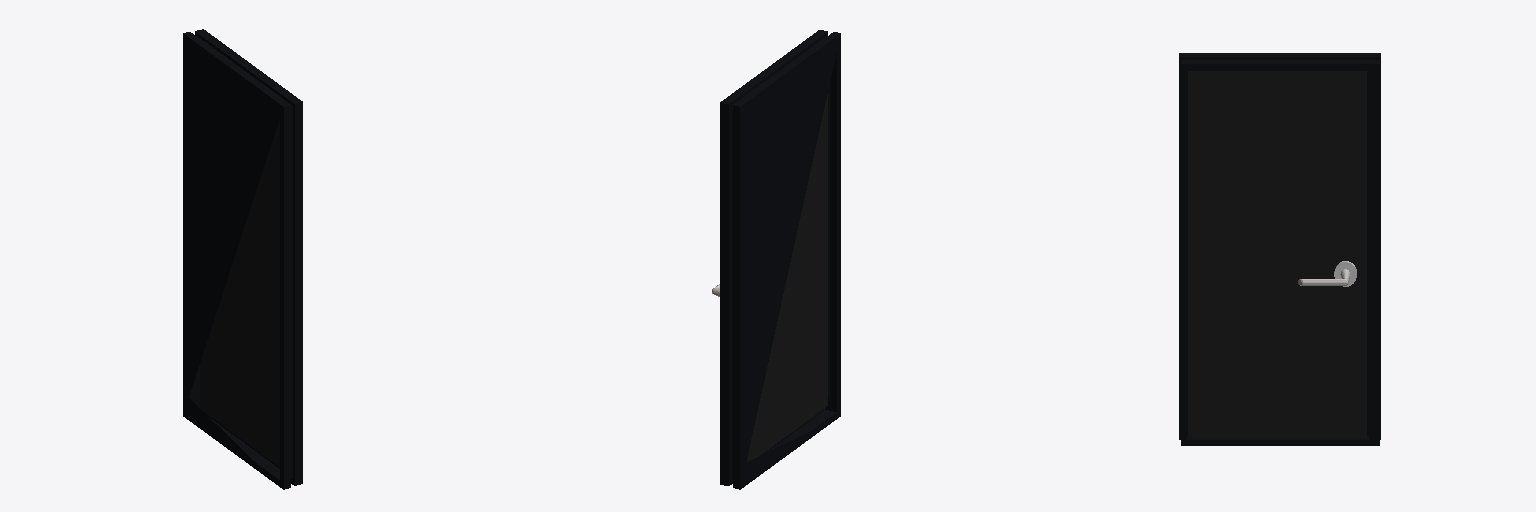
File: hospitaldoor.obj
3 views of the same model, side by side, from view 1: azimuth 30°, elevation 25°; view 2: azimuth 150°, elevation 25°; view 3: azimuth 270°, elevation 25° (orthographic).
Visible parts, largest first — view 1: Cube.001_Cube.002, Vert.004_CUVert.004; view 2: Cube.001_Cube.002, Vert.004_CUVert.004; view 3: Vert.004_CUVert.004, Cube.001_Cube.002.
Boxes of the visible parts, x1=… form: Cube.001_Cube.002: x1=183, y1=29, x2=302, y2=489; Vert.004_CUVert.004: x1=200, y1=120, x2=279, y2=466; Cube.001_Cube.002: x1=720, y1=30, x2=840, y2=489; Vert.004_CUVert.004: x1=712, y1=94, x2=827, y2=462; Vert.004_CUVert.004: x1=1188, y1=71, x2=1366, y2=437; Cube.001_Cube.002: x1=1179, y1=53, x2=1380, y2=445.
Bounding box in the file's own units: 0.5252 × 4.24 × 2.02.